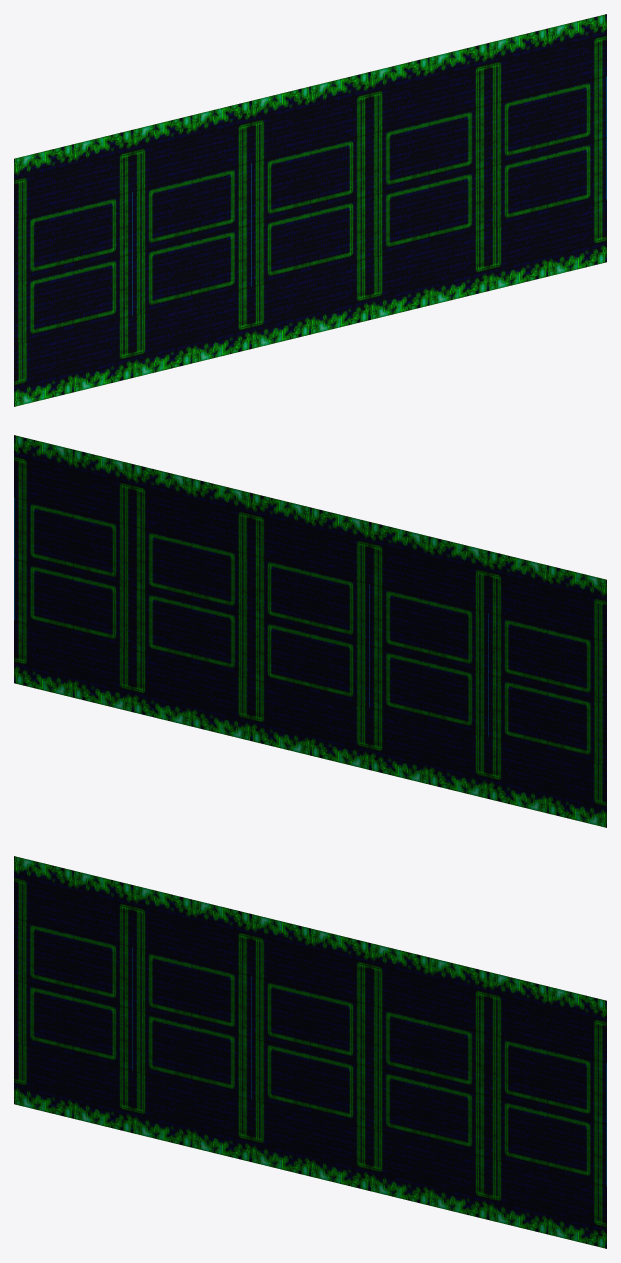
Rendered from ParedeOverseer.glb.
3 renders of one model, top to bottom at view 1: azimuth 30°, elevation 25°; view 2: azimuth 150°, elevation 25°; view 3: azimuth 330°, elevation 25°, orthographic.
Visible parts, largest first — view 1: ParedeBaixoESQ.010; view 2: ParedeBaixoESQ.010; view 3: ParedeBaixoESQ.010.
Boxes of the visible parts, box(x1,y1,x2,y2) form: ParedeBaixoESQ.010: box(14, 14, 606, 406); ParedeBaixoESQ.010: box(14, 435, 606, 827); ParedeBaixoESQ.010: box(14, 856, 606, 1248).
Bounding box in the file's own units: 20 × 8 × 2.12e-06.
1 material, 1 textured.
